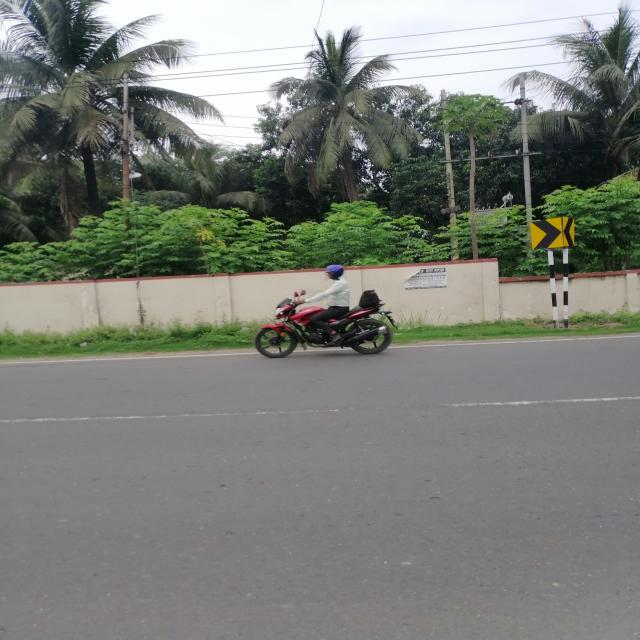Motorbike: (248, 286, 401, 369)
